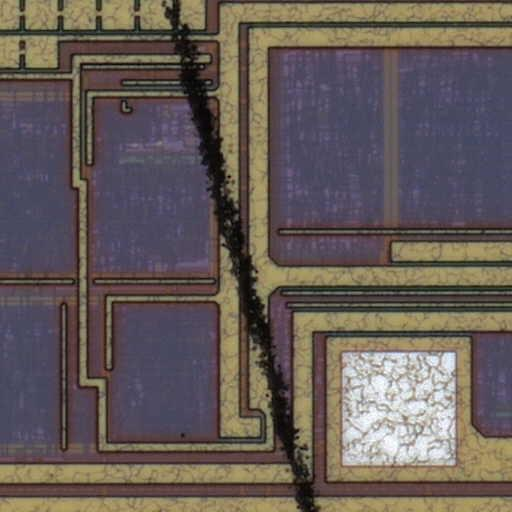SCRATCH: (147, 1, 337, 512)
